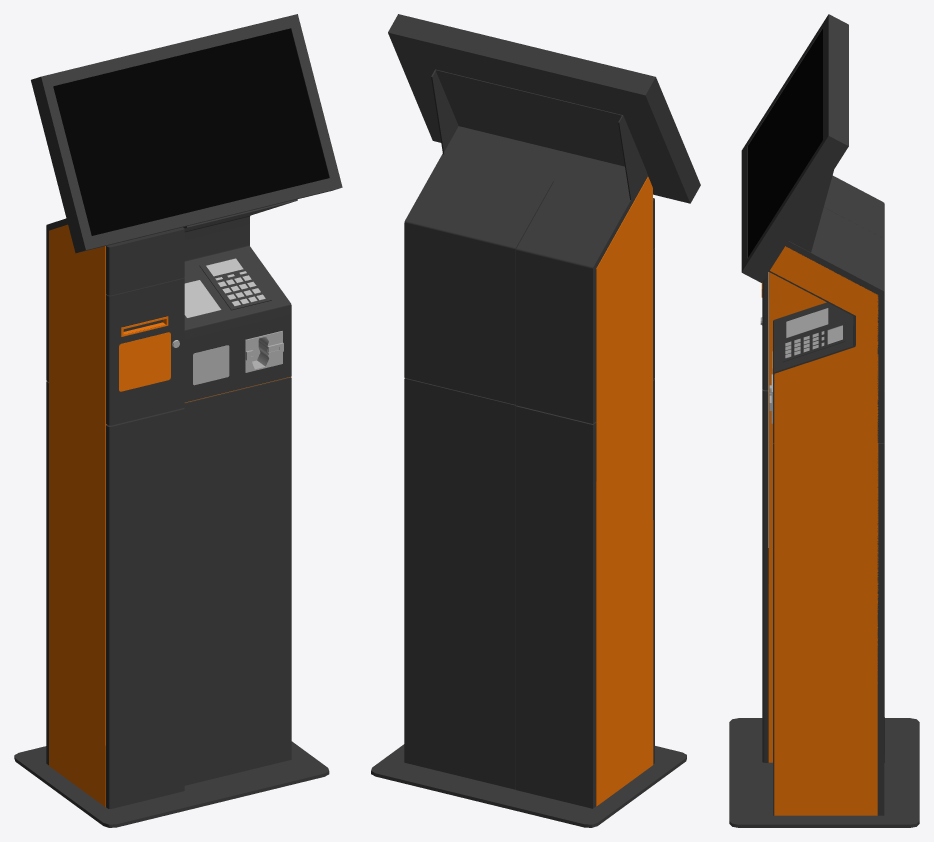
File: UTC_752st.fbx
The picture shows the model from 3 angles, left to right: view 1: azimuth 30°, elevation 25°; view 2: azimuth 150°, elevation 25°; view 3: azimuth 270°, elevation 25°; orthographic projection. The views are drawn at different scales.
Parts seen in each view (by area): view 1: B, A; view 2: B, A; view 3: B, A.
Part boxes in pixels (<box>): B: <box>14,199,329,827</box>; A: <box>31,14,342,253</box>; B: <box>371,149,686,827</box>; A: <box>388,14,700,203</box>; B: <box>729,175,919,827</box>; A: <box>741,14,848,282</box>.
Size of the model in its own units: 56.1 by 150 by 37.01.
